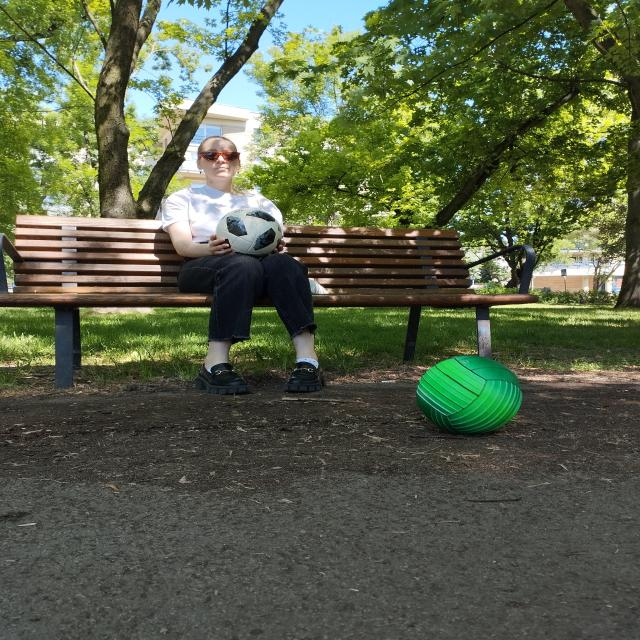nozna: (216, 208, 282, 258)
zielona: (416, 354, 524, 434)
